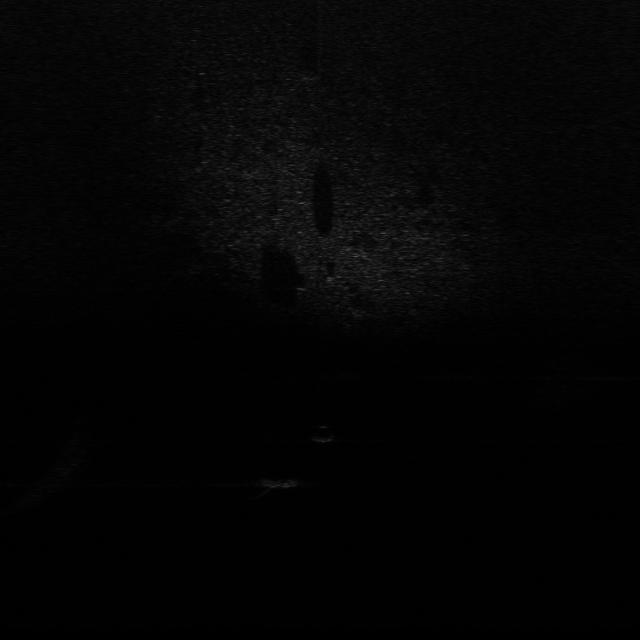ball: (313, 421, 339, 443)
square cage: (256, 475, 316, 491)
